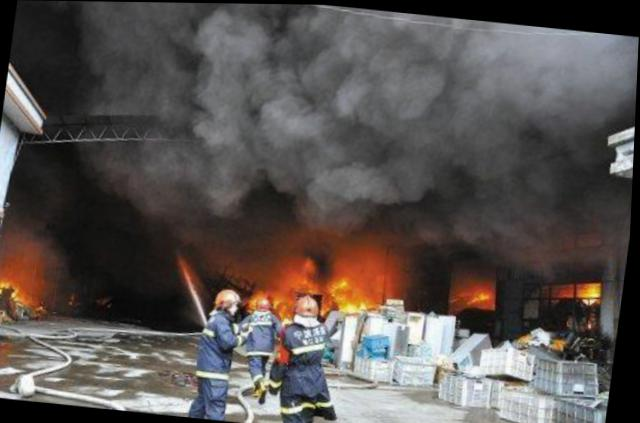fire: (331, 254, 379, 311), (269, 262, 298, 315), (453, 278, 497, 305), (0, 272, 37, 304), (293, 253, 322, 289), (575, 279, 605, 299)
